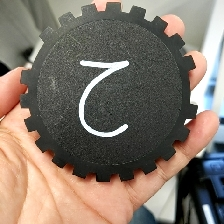gear: (18, 1, 199, 184)
missing: (20, 26, 54, 88), (179, 53, 199, 121)
